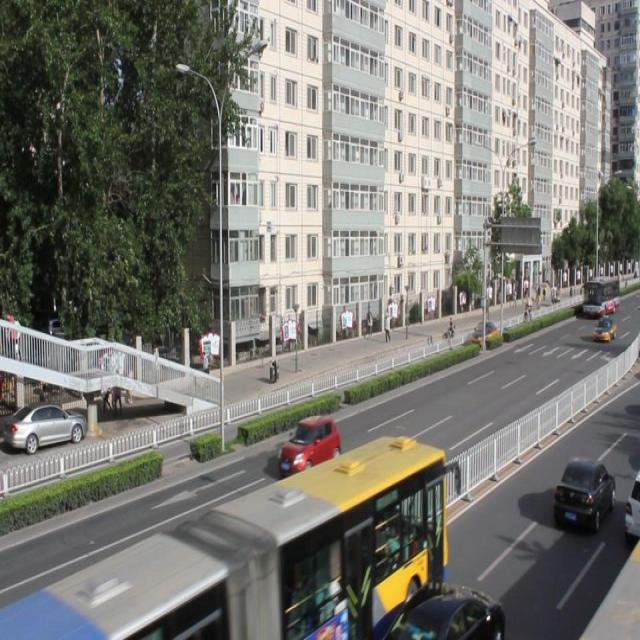car: (394, 576, 506, 640), (553, 456, 614, 532), (278, 413, 342, 478), (624, 468, 640, 537), (471, 319, 495, 347)
van: (1, 435, 446, 640), (565, 533, 640, 640)
